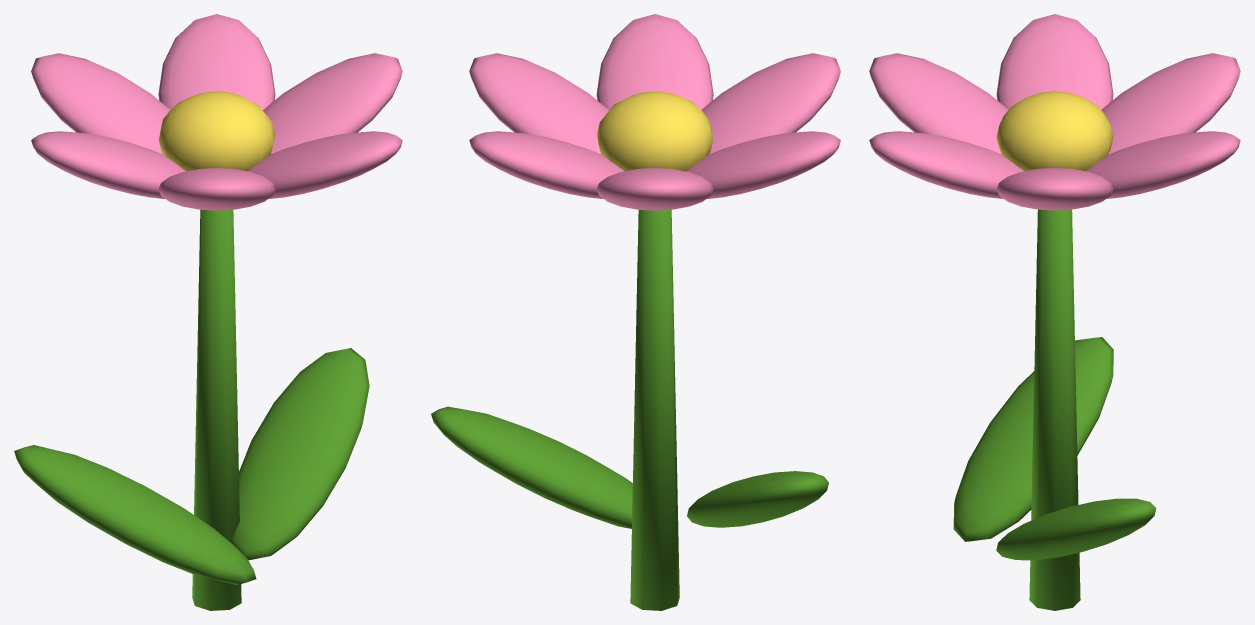
Rendered from JungleFlower.fbx.
The picture shows the model from 3 angles, left to right: view 1: azimuth 30°, elevation 25°; view 2: azimuth 150°, elevation 25°; view 3: azimuth 270°, elevation 25°; orthographic projection.
Visible parts, largest first — view 1: FlowerLeaf_1, FlowerStem, FlowerLeaf_-1, Petal_0, Petal_2, Petal_1, FlowerCenter, Petal_5, Petal_3, Petal_4; view 2: FlowerStem, FlowerLeaf_1, Petal_0, Petal_4, Petal_5, FlowerCenter, Petal_1, Petal_3, FlowerLeaf_-1, Petal_2; view 3: FlowerStem, FlowerLeaf_-1, Petal_2, Petal_4, Petal_3, FlowerCenter, FlowerLeaf_1, Petal_1, Petal_5, Petal_0.
Boxes of the visible parts, x1,y1,x2,y2 form: FlowerLeaf_1: (232,348,369,560); FlowerStem: (192,210,241,610); FlowerLeaf_-1: (14,445,256,584); Petal_0: (263,53,402,154); Petal_2: (31,53,170,154); Petal_1: (158,14,275,110); FlowerCenter: (159,91,274,171); Petal_5: (248,131,402,198); Petal_3: (31,131,185,198); Petal_4: (158,168,275,210); FlowerStem: (630,210,679,610); FlowerLeaf_1: (431,406,632,528); Petal_0: (469,53,608,154); Petal_4: (701,53,840,154); Petal_5: (596,14,713,110); FlowerCenter: (597,91,712,171); Petal_1: (469,131,623,198); Petal_3: (686,131,840,198); FlowerLeaf_-1: (687,471,828,527); Petal_2: (596,168,713,210); FlowerStem: (1029,209,1080,610); FlowerLeaf_-1: (953,337,1113,541); Petal_2: (1101,53,1240,154); Petal_4: (869,53,1008,154); Petal_3: (996,14,1113,109); FlowerCenter: (996,91,1113,170); FlowerLeaf_1: (996,498,1156,560); Petal_1: (1085,131,1240,198); Petal_5: (869,131,1024,198); Petal_0: (996,168,1113,210).
Size of the model in its own units: 0.3956 by 0.52 by 0.349.
